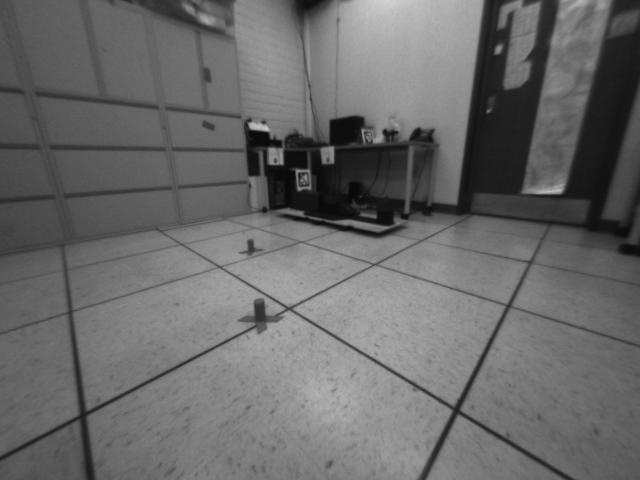X: (236, 298, 284, 335), (237, 238, 265, 259)
